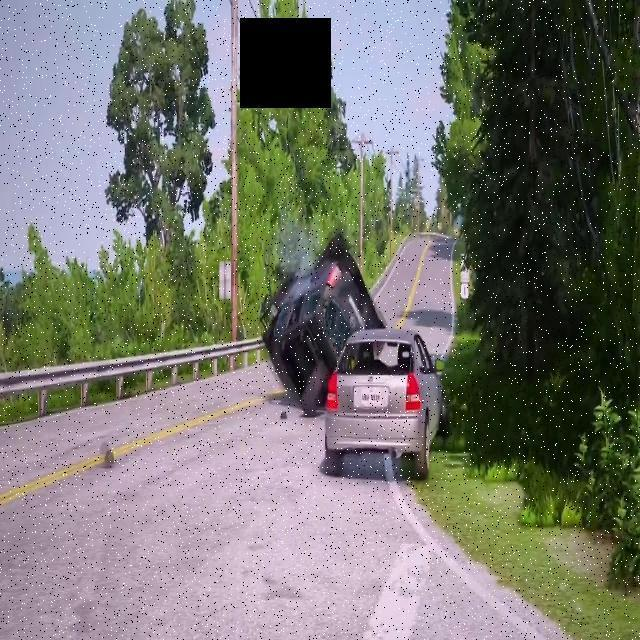person: (244, 224, 392, 420)
